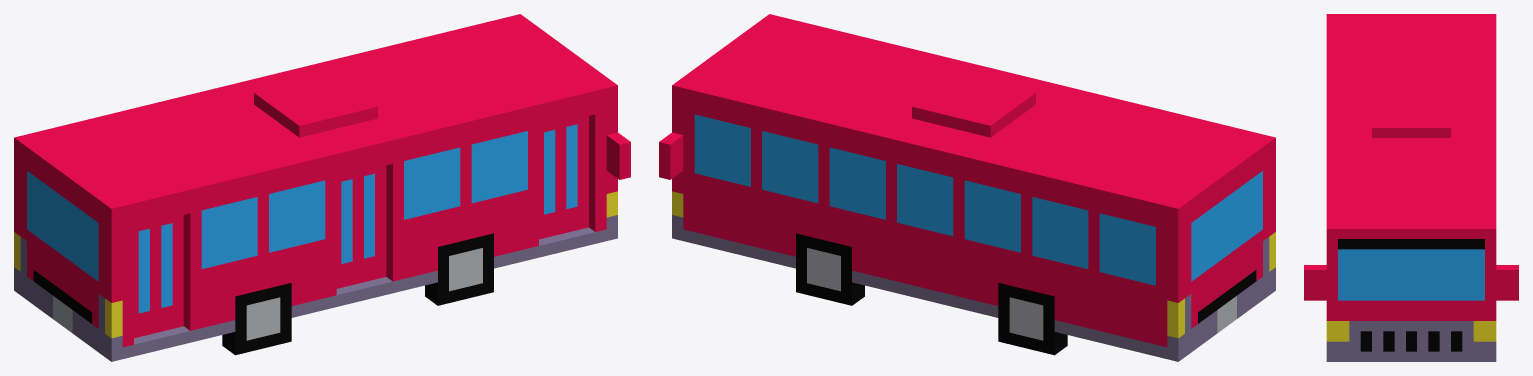
The model's file is bus_a.obj.
3 views of the same model, side by side, from view 1: azimuth 30°, elevation 25°; view 2: azimuth 150°, elevation 25°; view 3: azimuth 270°, elevation 25° (orthographic). The views are drawn at different scales.
Size of the model in its own units: 4.5 by 1.6 by 1.9.
1 material, 1 textured.
